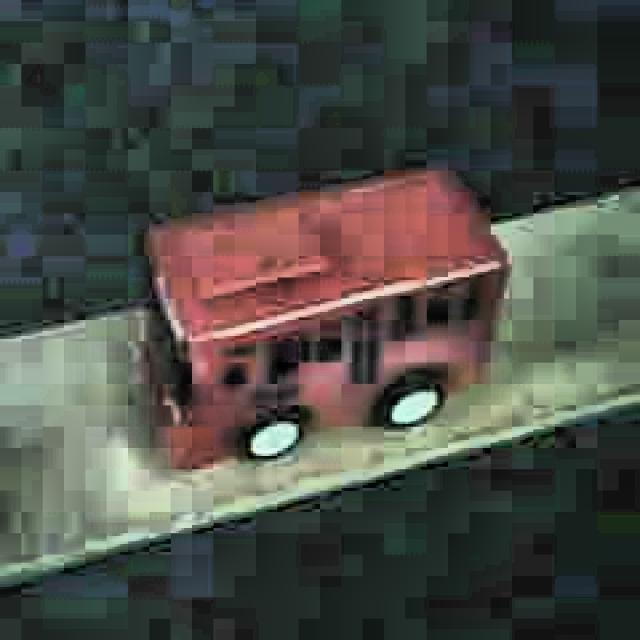bus: (145, 163, 512, 476)
